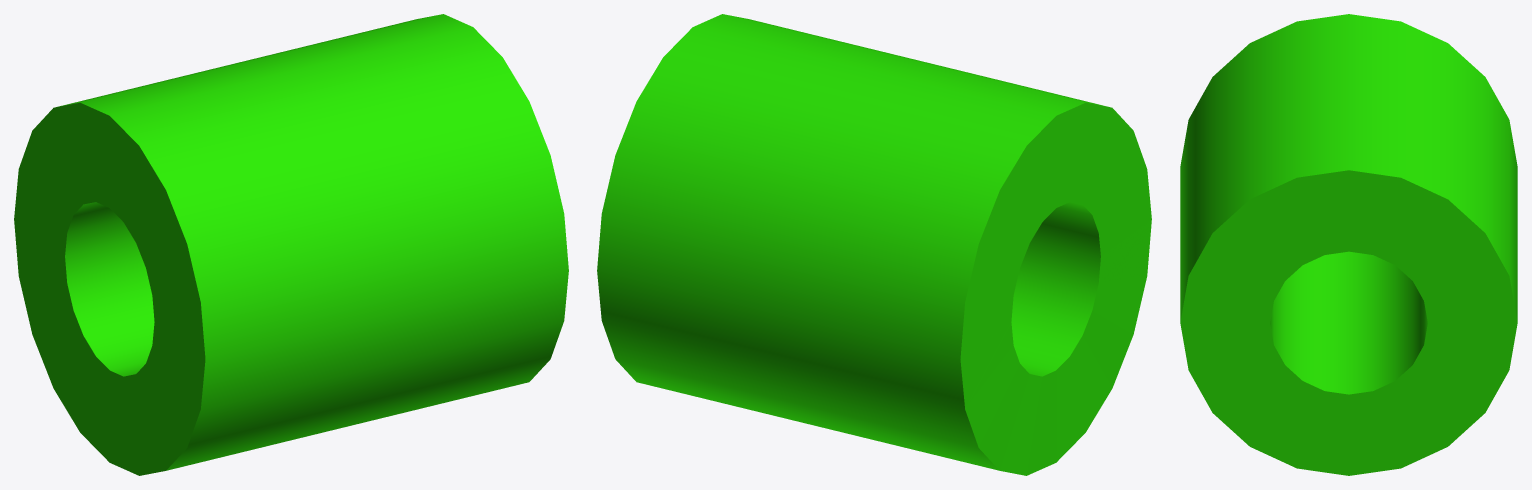
Rendered from Toilet_Paper_02_Lod0.fbx.
The picture shows the model from 3 angles, left to right: view 1: azimuth 30°, elevation 25°; view 2: azimuth 150°, elevation 25°; view 3: azimuth 270°, elevation 25°; orthographic projection. The views are drawn at different scales.
Visible parts, largest first — view 1: Toilet_Paper_02_Lod0; view 2: Toilet_Paper_02_Lod0; view 3: Toilet_Paper_02_Lod0.
Boxes of the visible parts, x1,y1,x2,y2 form: Toilet_Paper_02_Lod0: (14, 14, 568, 475); Toilet_Paper_02_Lod0: (597, 14, 1151, 475); Toilet_Paper_02_Lod0: (1180, 14, 1517, 475).
Bounding box in the file's own units: 14.16 × 12.92 × 12.92.
